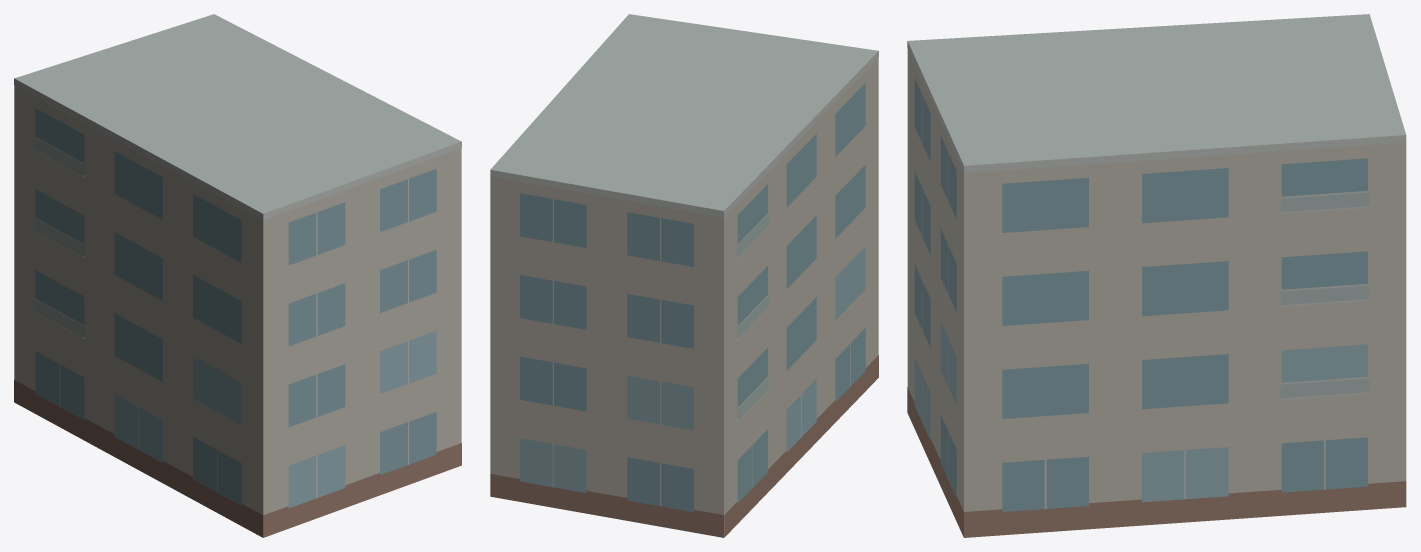
File: survey-upis-33047123.glb
3 renders of one model, left to right at view 1: azimuth 30°, elevation 25°; view 2: azimuth 150°, elevation 25°; view 3: azimuth 270°, elevation 25°, orthographic. The views are drawn at different scales.
Visible parts, largest first — view 1: survey-upis-33047123.tmp; view 2: survey-upis-33047123.tmp; view 3: survey-upis-33047123.tmp.
Boxes of the visible parts, box(x1,y1,x2,y2) form: survey-upis-33047123.tmp: box(14, 14, 461, 537); survey-upis-33047123.tmp: box(490, 14, 878, 537); survey-upis-33047123.tmp: box(907, 14, 1406, 537).
Size of the model in its own units: 10.6 by 12.1 by 14.71.
